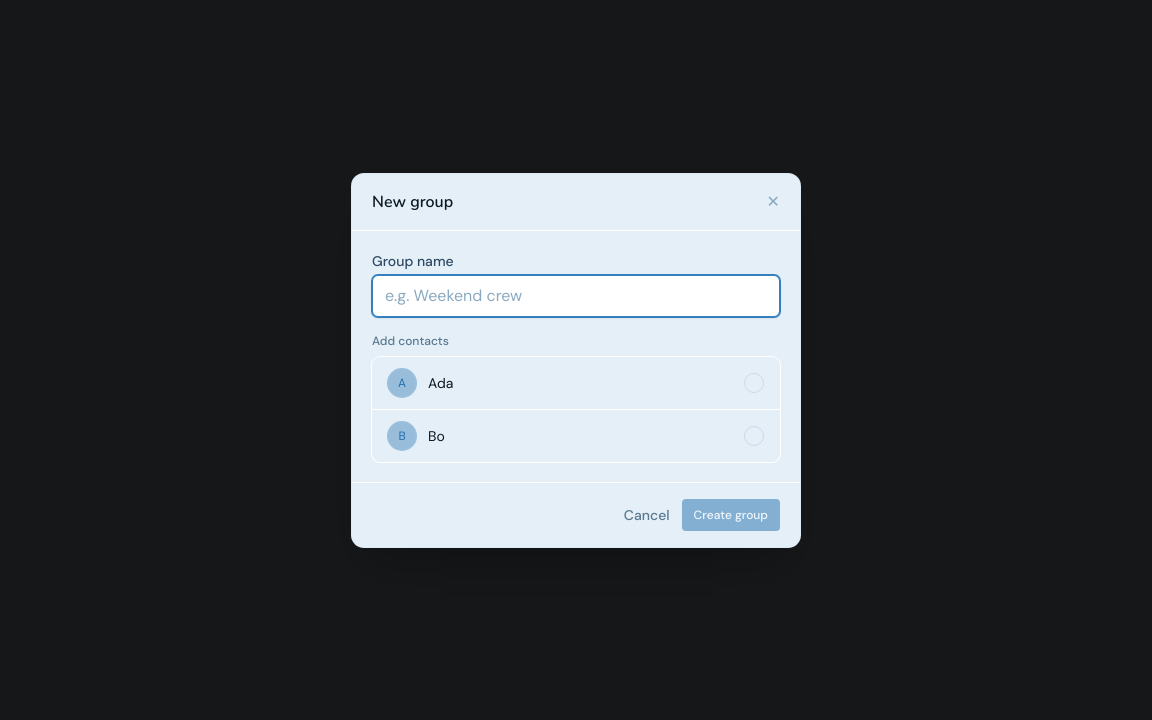
Test: CreateGroupModal › surfaces a server error on failed creation
Expected: the text "Ada" is shown, 428,374 -> 453,392
In the field labelled "Group name": coordinates (576, 296) 372,274 -> 780,316, type "Crew"
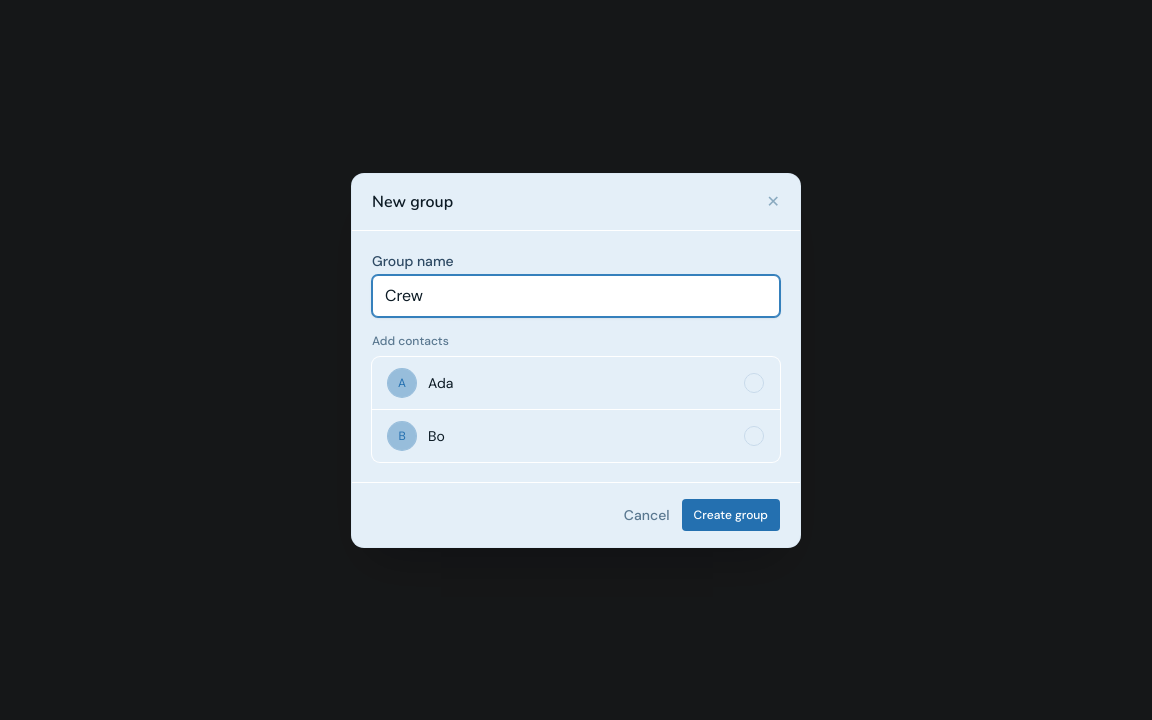
Click the button "Create group": coordinates (731, 514) 682,498 -> 780,530
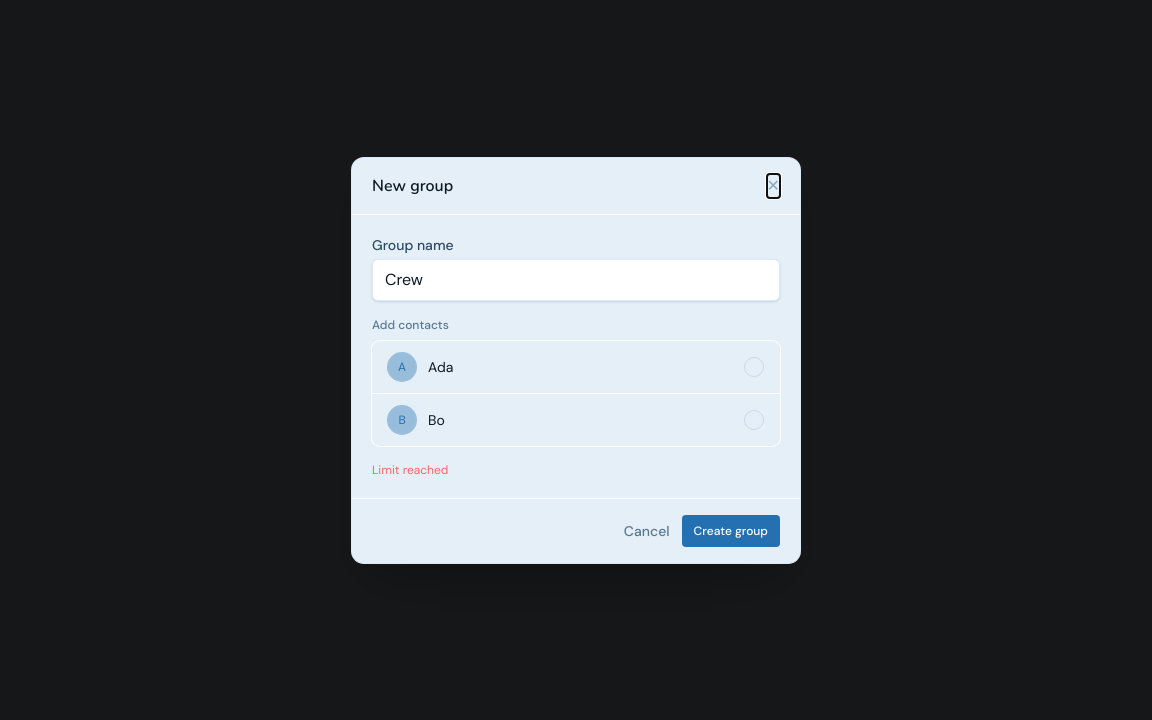
Result: the text "Limit reached" is shown at 372,462 -> 448,478
